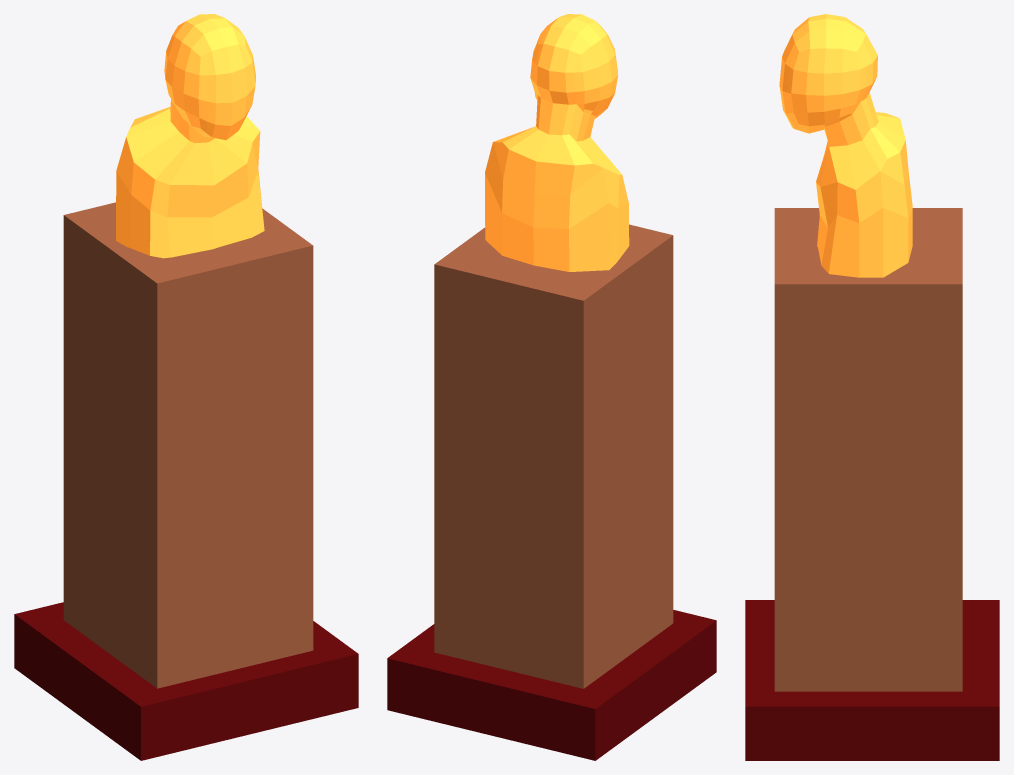
File: monumento2.gltf
3 views of the same model, side by side, from view 1: azimuth 30°, elevation 25°; view 2: azimuth 150°, elevation 25°; view 3: azimuth 270°, elevation 25° (orthographic). The views are drawn at different scales.
Parts seen in each view (by area): view 1: Monumento, Cube.003, Base; view 2: Monumento, Cube.003, Base; view 3: Monumento, Base, Cube.003.
Part boxes in pixels (x1,y1,x2,y2): Monumento: (63,202,313,688); Cube.003: (116,14,264,258); Base: (14,602,358,760); Monumento: (434,224,673,688); Cube.003: (485,14,629,271); Base: (387,610,716,760); Monumento: (774,208,962,691); Base: (745,600,999,760); Cube.003: (779,14,912,277).
Bounding box in the file's own units: 0.614 × 1.85 × 0.6194.
